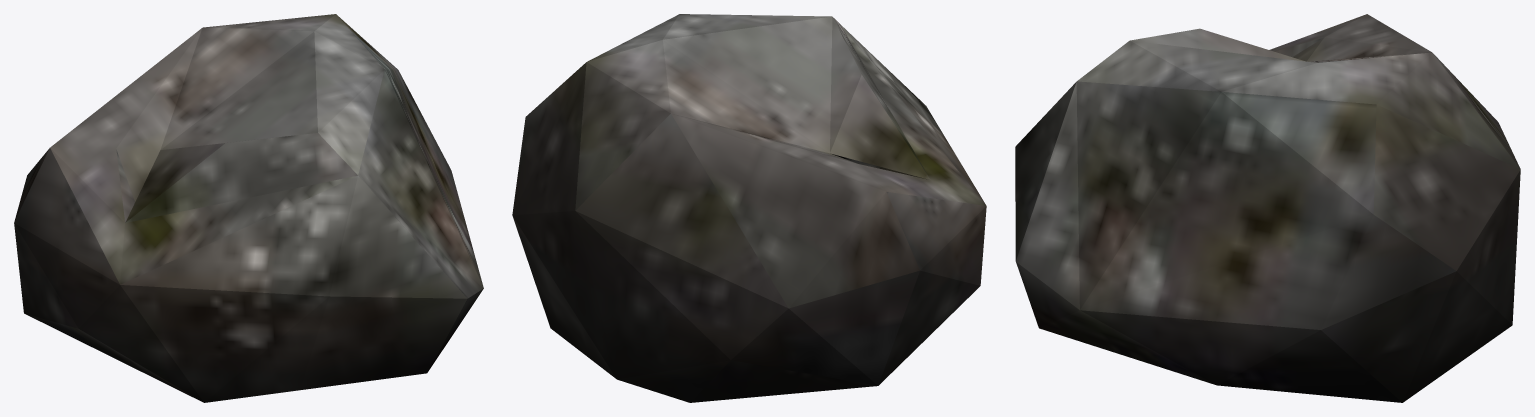
Rendered from ga3_rock_lod1.glb.
The picture shows the model from 3 angles, left to right: view 1: azimuth 30°, elevation 25°; view 2: azimuth 150°, elevation 25°; view 3: azimuth 270°, elevation 25°; orthographic projection. The views are drawn at different scales.
Visible parts, largest first — view 1: ga3_rock_lod1; view 2: ga3_rock_lod1; view 3: ga3_rock_lod1.
Part boxes in pixels (box(x1,y1,x2,y2)): ga3_rock_lod1: box(14, 14, 483, 402); ga3_rock_lod1: box(512, 14, 986, 402); ga3_rock_lod1: box(1015, 14, 1520, 402).
Bounding box in the file's own units: 1.02 × 0.672 × 0.9733.
Materials: 1 (1 with a texture image).
